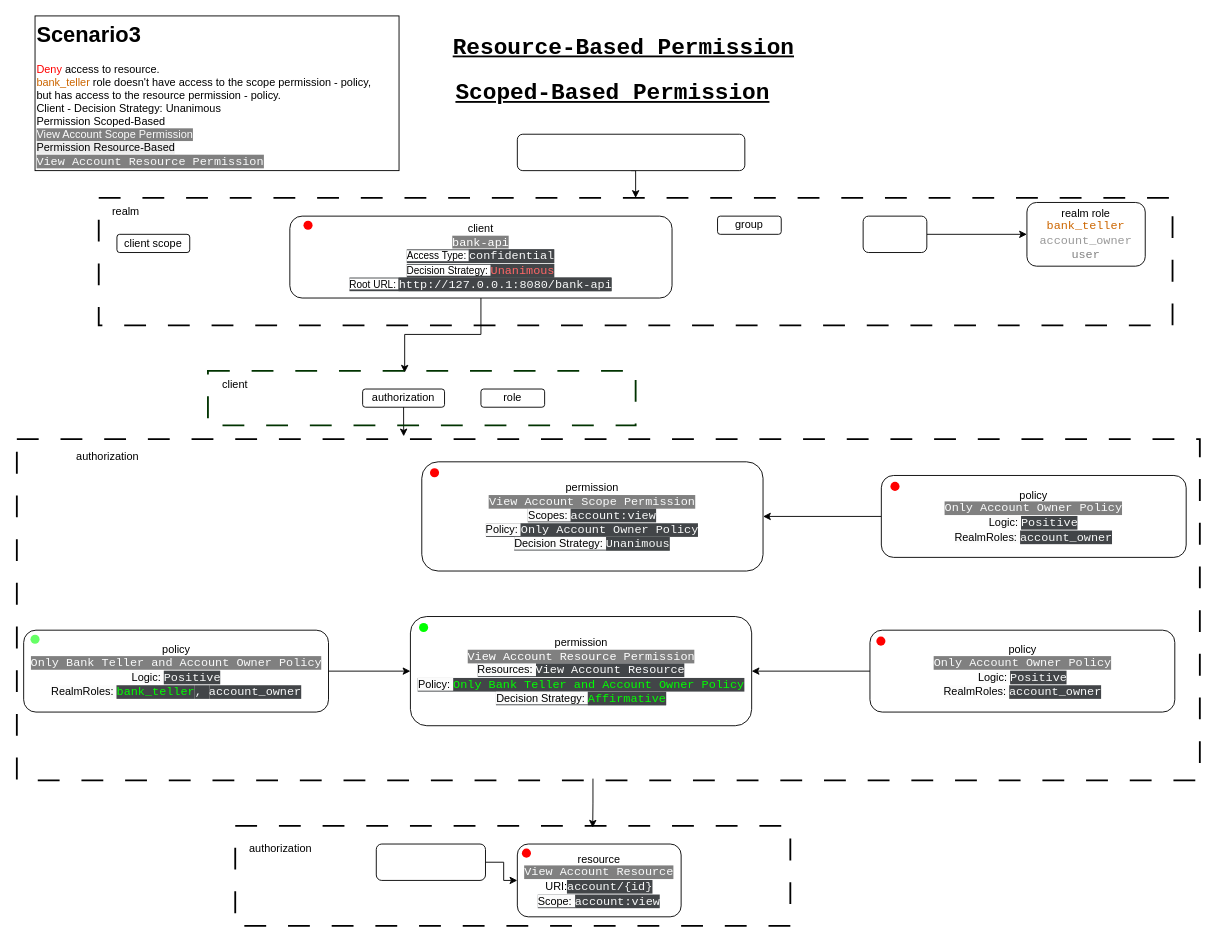
Image size: 1216x943. Some labels were removed from this diagram. The centre of each missing label's shape, as x and y in pixels:
authorization scope account:view: (430,861)
realm stackoverflow-demo: (630,152)
user bob: (894,234)
